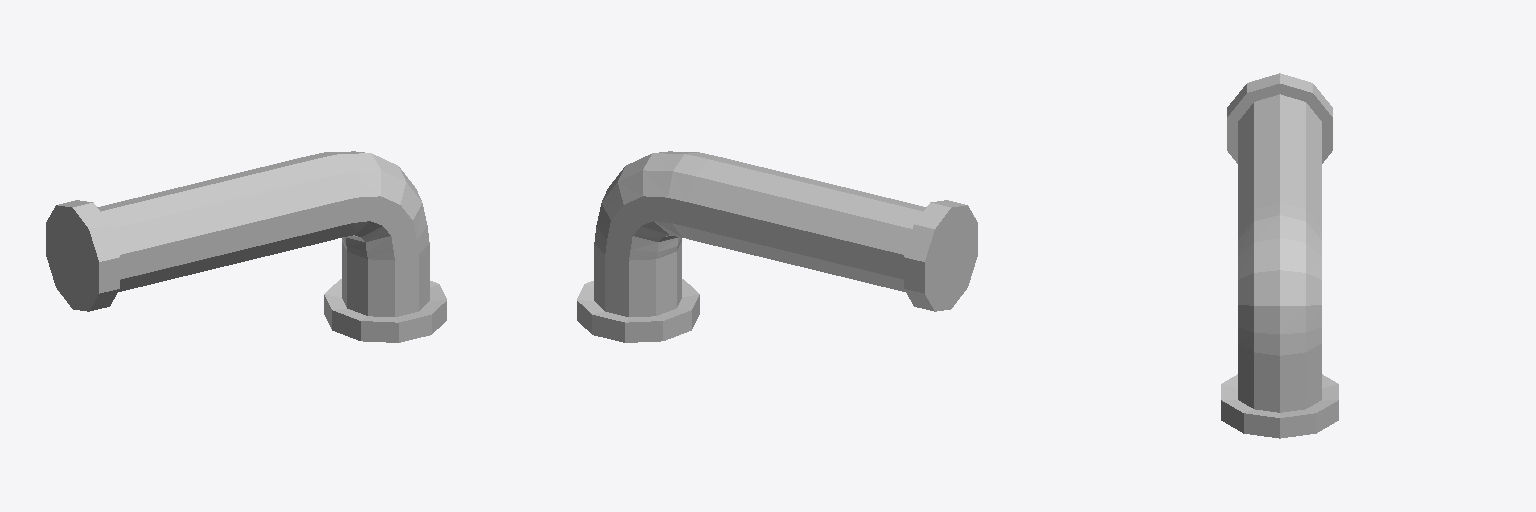
File: pipe2.obj
3 renders of one model, left to right at view 1: azimuth 30°, elevation 25°; view 2: azimuth 150°, elevation 25°; view 3: azimuth 270°, elevation 25°, orthographic.
Parts seen in each view (by area): view 1: pipe:pCylinder1; view 2: pipe:pCylinder1; view 3: pipe:pCylinder1.
Boxes of the visible parts, <box> form: pipe:pCylinder1: <box>46,151,446,342</box>; pipe:pCylinder1: <box>577,151,977,342</box>; pipe:pCylinder1: <box>1221,73,1338,438</box>.
Size of the model in its own units: 9.58 by 4.65 by 2.67.